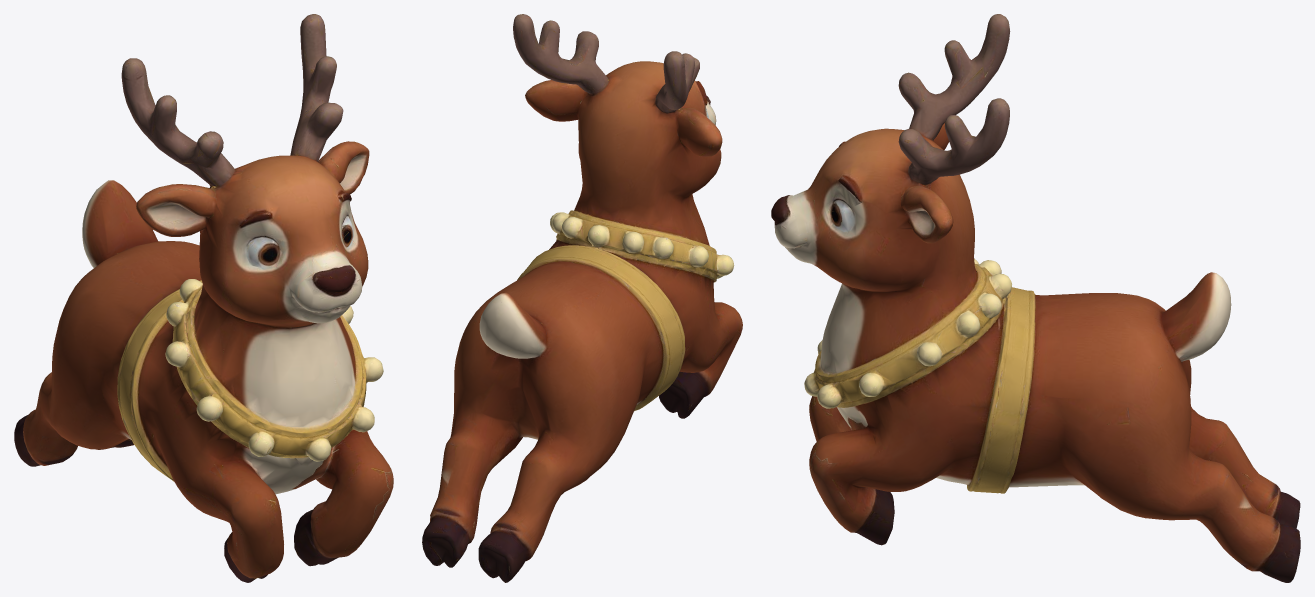
Rendered from santa-reindeer.glb.
3 renders of one model, left to right at view 1: azimuth 30°, elevation 25°; view 2: azimuth 150°, elevation 25°; view 3: azimuth 270°, elevation 25°, orthographic. The views are drawn at different scales.
Visible parts, largest first — view 1: Mesh_0; view 2: Mesh_0; view 3: Mesh_0.
Part boxes in pixels (left/top/right/bottom): Mesh_0: left=14, top=14, right=393, bottom=582; Mesh_0: left=422, top=14, right=742, bottom=582; Mesh_0: left=771, top=14, right=1300, bottom=582.
Size of the model in its own units: 0.8674 by 1.9 by 1.8.
Materials: 1 (1 with a texture image).
